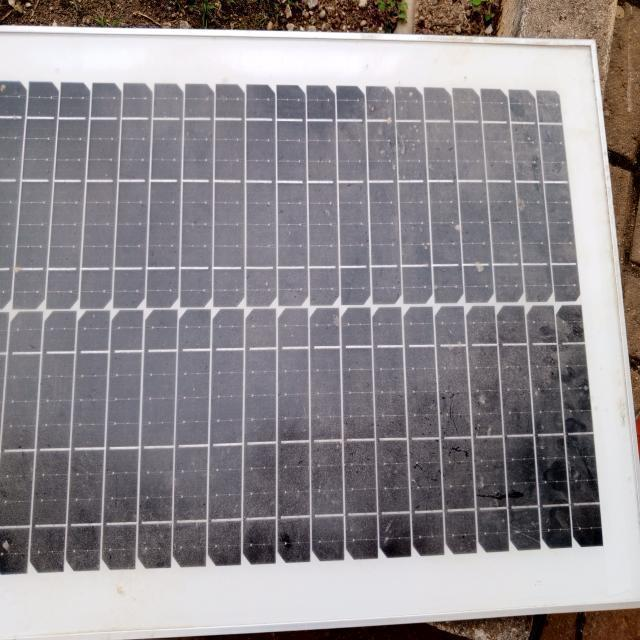Anomaly Solar Panel: (0, 42, 607, 600)
Surface Contaminant: (24, 71, 578, 572)
